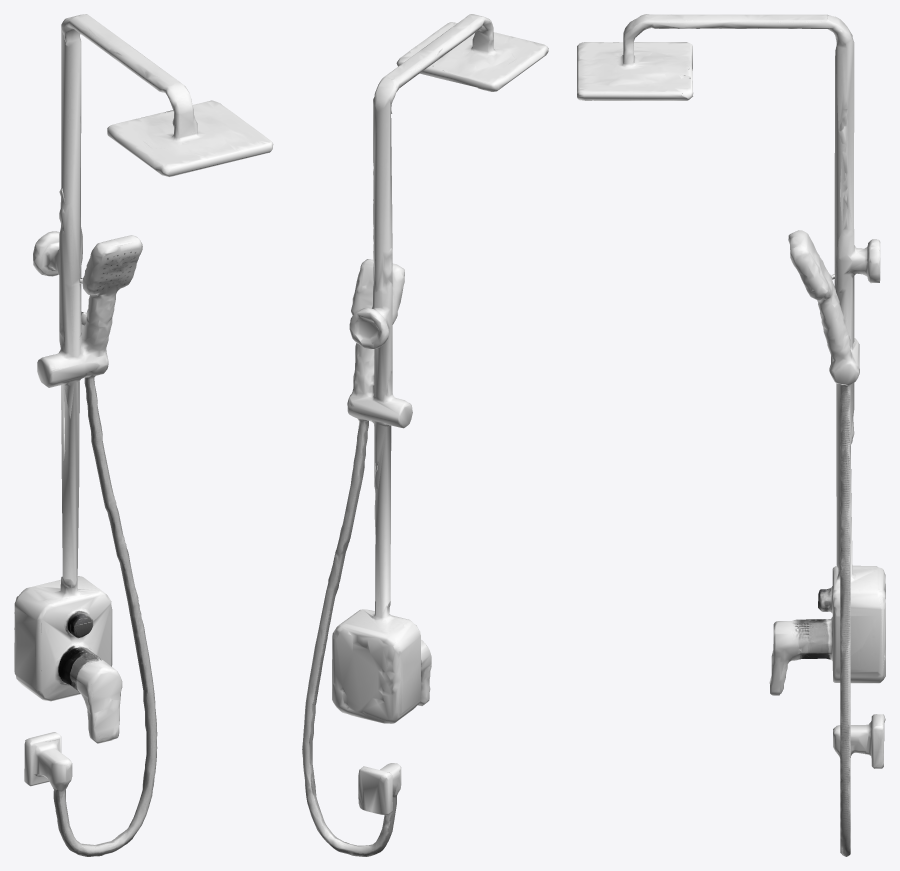
Rendered from shower.glb.
The picture shows the model from 3 angles, left to right: view 1: azimuth 30°, elevation 25°; view 2: azimuth 150°, elevation 25°; view 3: azimuth 270°, elevation 25°; orthographic projection. The views are drawn at different scales.
Parts seen in each view (by area): view 1: Mesh1.0; view 2: Mesh1.0; view 3: Mesh1.0.
Part boxes in pixels (x1,y1,x2,y2): Mesh1.0: (14, 14, 273, 856); Mesh1.0: (302, 14, 548, 856); Mesh1.0: (577, 14, 885, 856).
Bounding box in the file's own units: 0.313 × 1.92 × 0.6558.
Materials: 1 (1 with a texture image).
